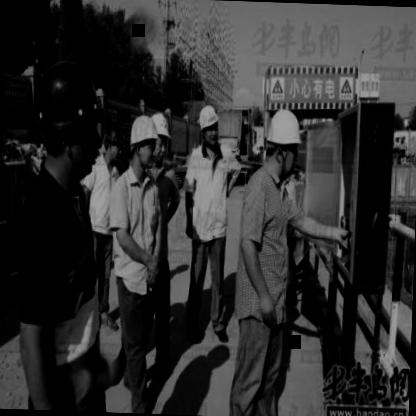helmet: (36, 56, 104, 174), (264, 107, 302, 175), (127, 112, 160, 172), (100, 122, 126, 169), (150, 111, 172, 166), (199, 101, 220, 148)
